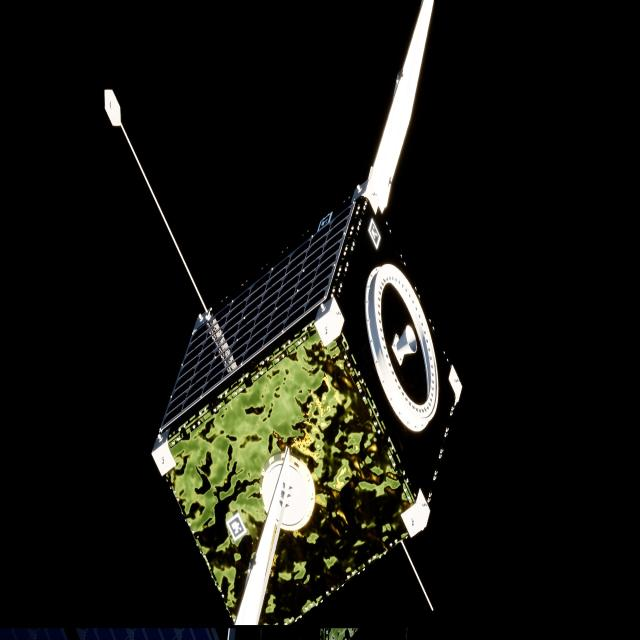medium_debris: (150, 0, 464, 635)
